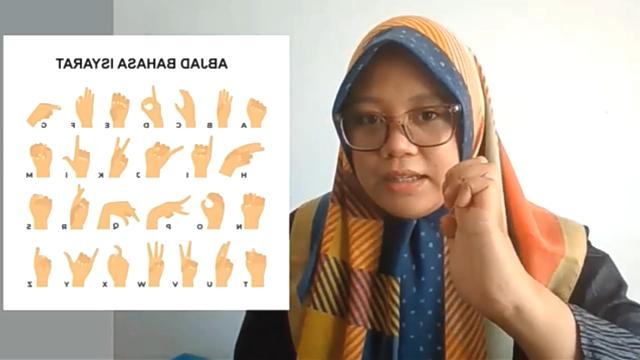E: (438, 155, 512, 321)
